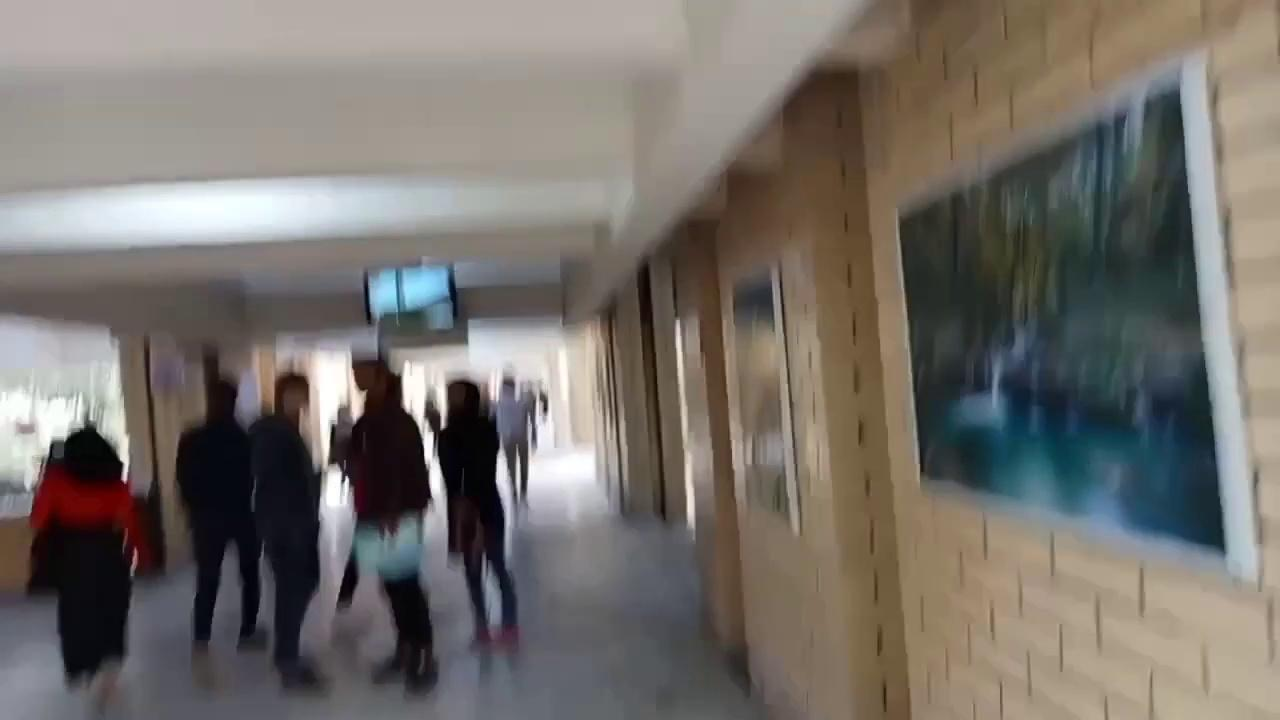person: (26, 426, 152, 709), (335, 362, 438, 696), (246, 372, 326, 690), (174, 379, 261, 646), (437, 379, 518, 645)
